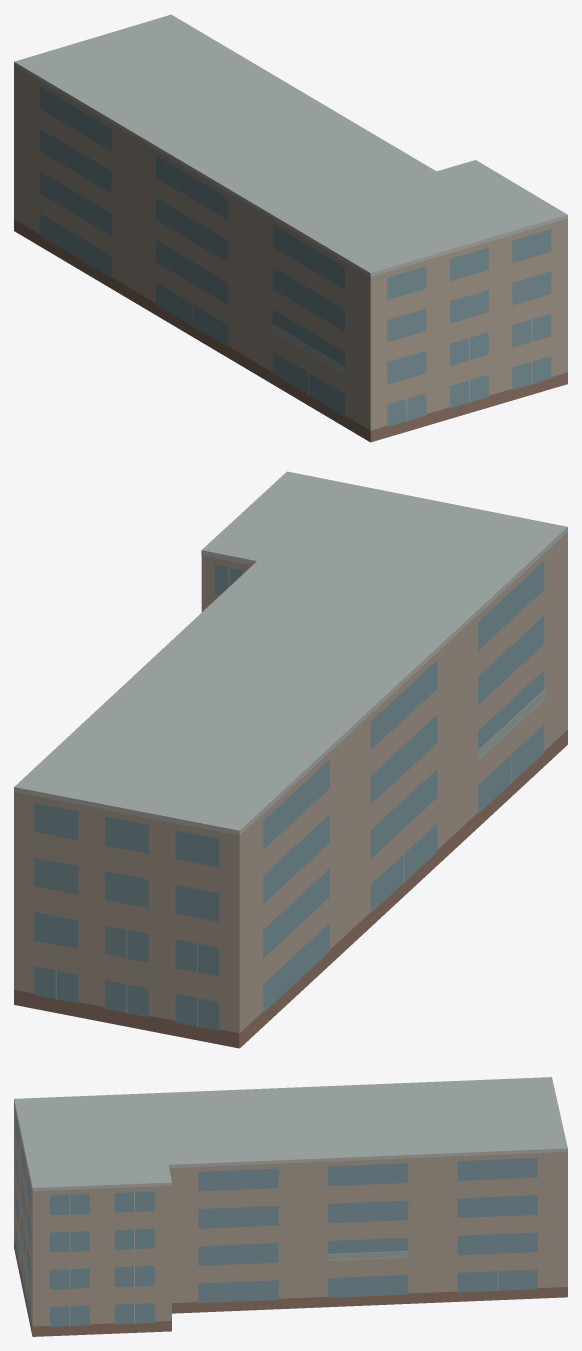
File: survey-upis-32819208.glb
3 views of the same model, one above another, from view 1: azimuth 30°, elevation 25°; view 2: azimuth 150°, elevation 25°; view 3: azimuth 270°, elevation 25° (orthographic). The views are drawn at different scales.
Parts seen in each view (by area): view 1: survey-upis-32819208.tmp; view 2: survey-upis-32819208.tmp; view 3: survey-upis-32819208.tmp.
Part boxes in pixels (x1,y1,x2,y2): survey-upis-32819208.tmp: (14, 14, 567, 442); survey-upis-32819208.tmp: (14, 471, 567, 1048); survey-upis-32819208.tmp: (14, 1077, 567, 1336).
Bounding box in the file's own units: 17.48 × 10.93 × 36.86.
